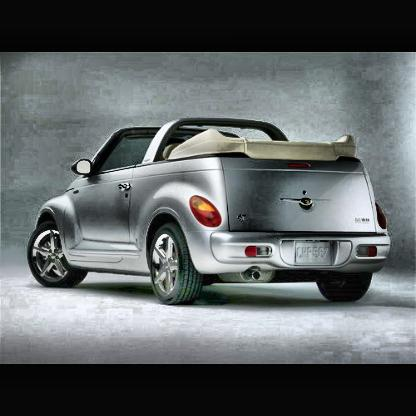Chrysler PT Cruiser Convertible 2008: (17, 98, 408, 344)
